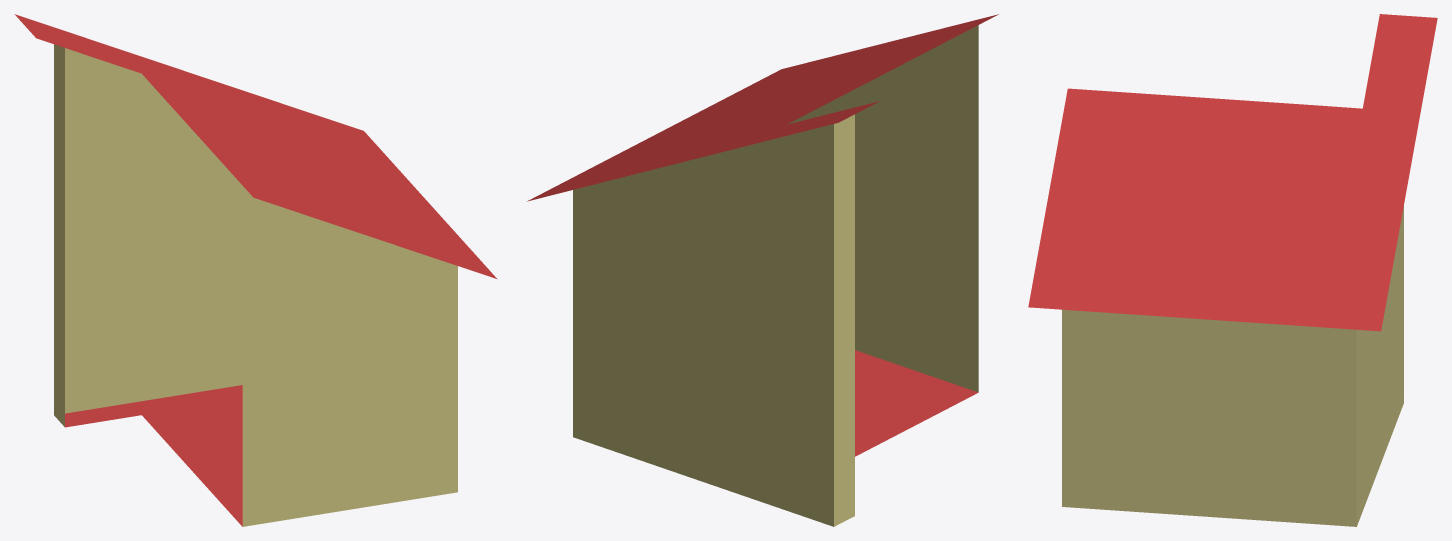
3 views of the same model, side by side, from view 1: azimuth 30°, elevation 25°; view 2: azimuth 150°, elevation 25°; view 3: azimuth 270°, elevation 25° (orthographic). The views are drawn at different scales.
Bounding box in the file's own units: 9.22 × 10.46 × 10.56.
